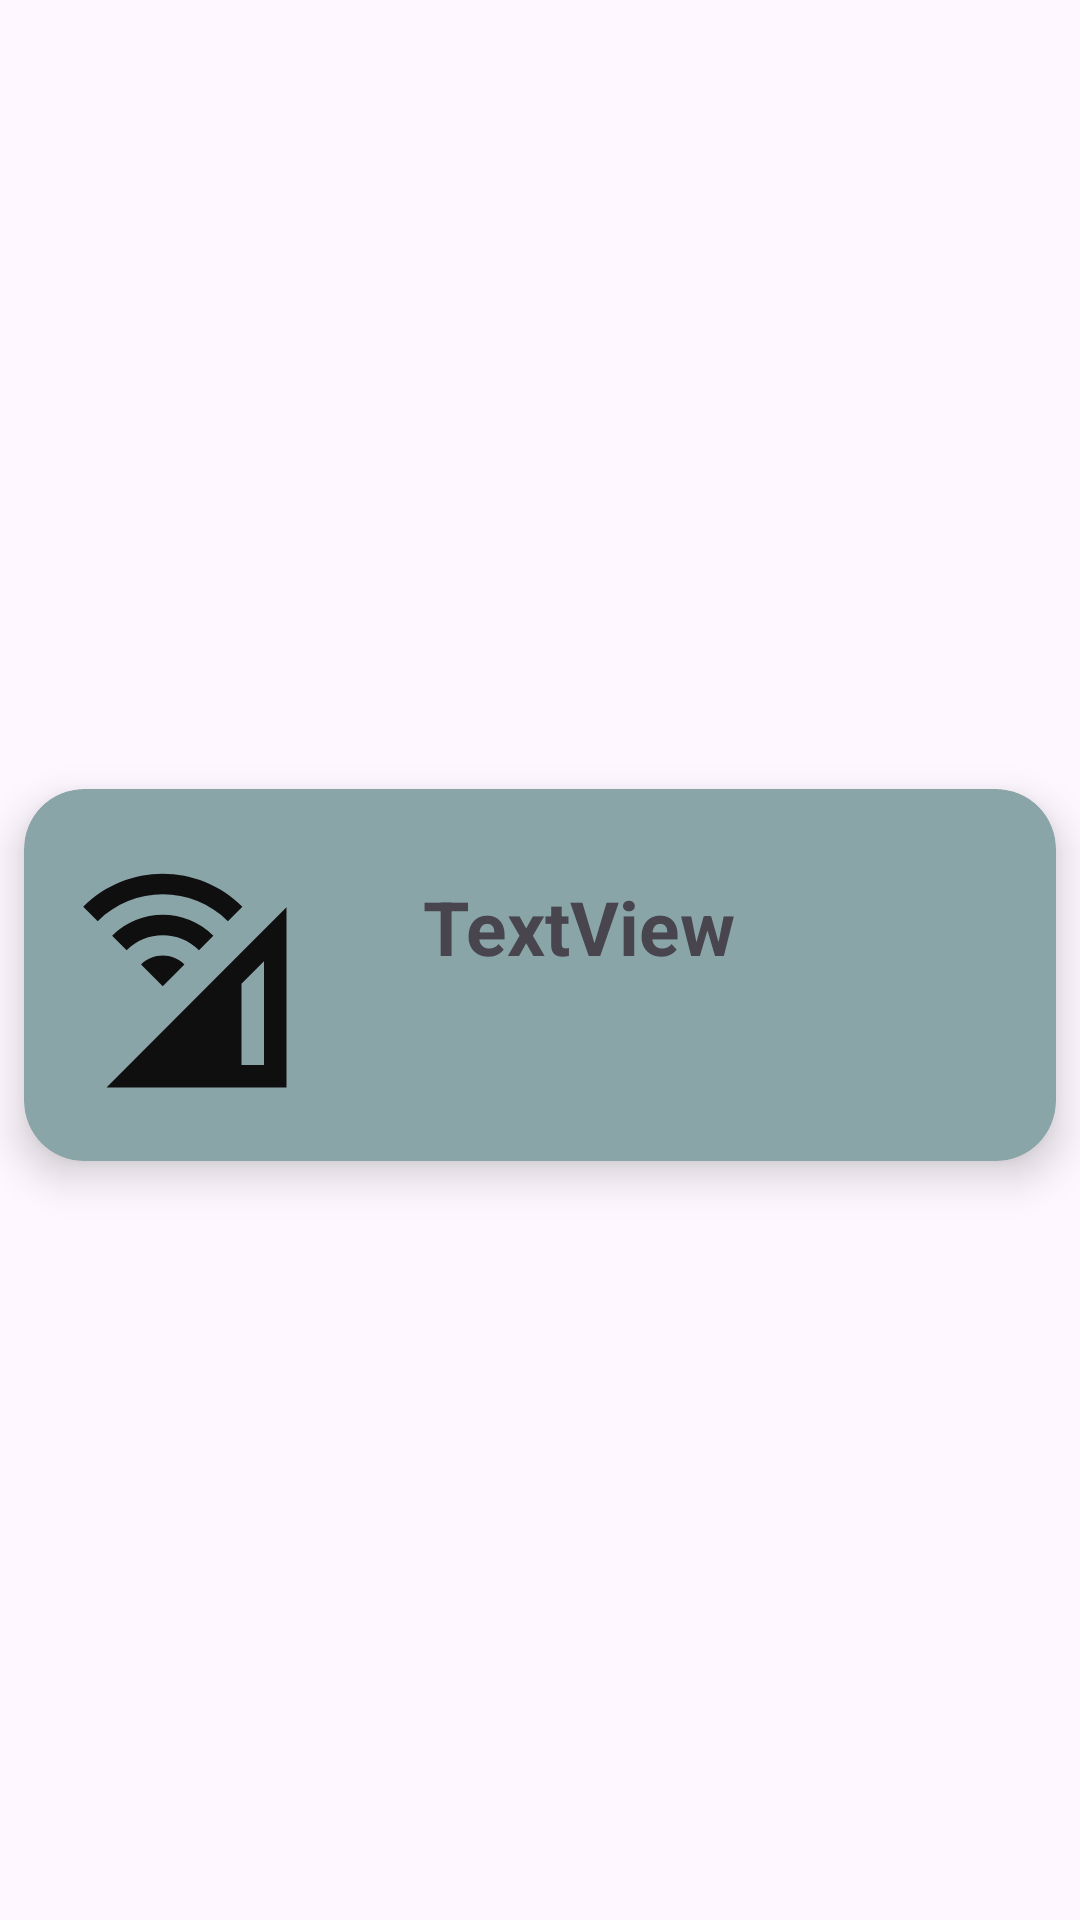

Icon bounding boxes for this 1080 x 1920 phone screenshot, format (x1, y1, x2, y2):
internet: (83, 873, 287, 1088)
